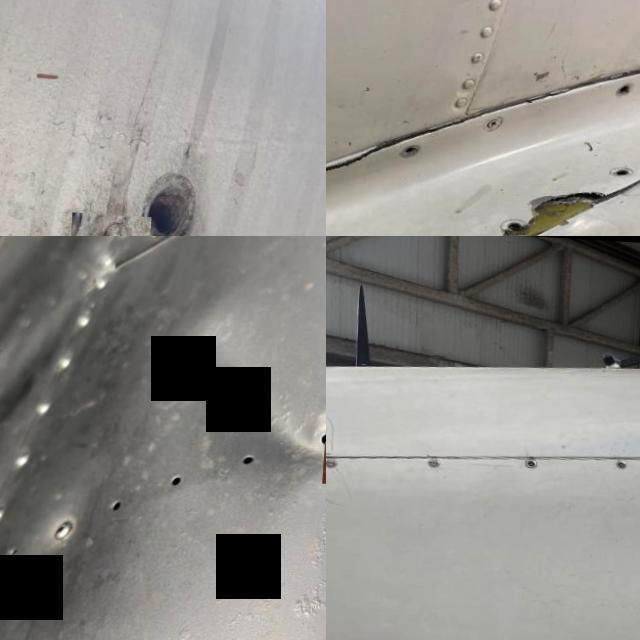Crack: (499, 177, 617, 236), (326, 130, 394, 179), (72, 209, 155, 236)
Dent: (183, 295, 326, 505)
Missing_Fastener: (402, 138, 424, 156), (617, 77, 637, 89), (614, 160, 636, 170)
